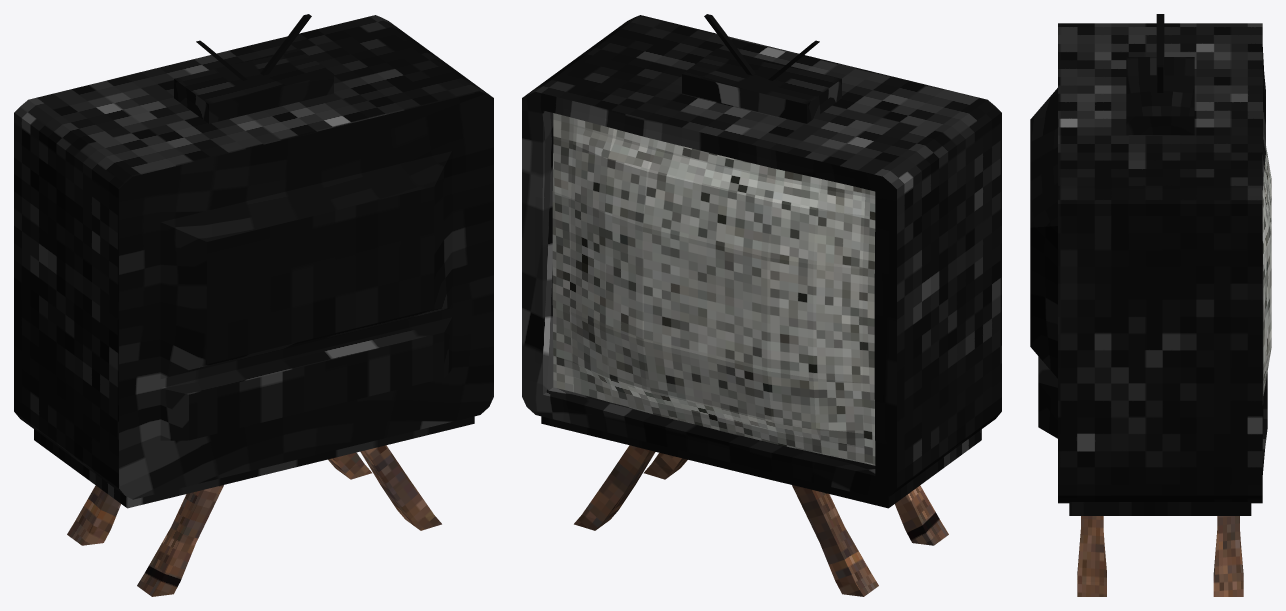
File: Tele.fbx
3 views of the same model, side by side, from view 1: azimuth 30°, elevation 25°; view 2: azimuth 150°, elevation 25°; view 3: azimuth 270°, elevation 25° (orthographic). The views are drawn at different scales.
Visible parts, largest first — view 1: Tele; view 2: Tele; view 3: Tele.
Boxes of the visible parts, x1,y1,x2,y2 form: Tele: (14,14,493,596); Tele: (522,14,1001,596); Tele: (1030,14,1271,596).
Bounding box in the file's own units: 70 × 90 × 40.
3 materials, 3 textured.
